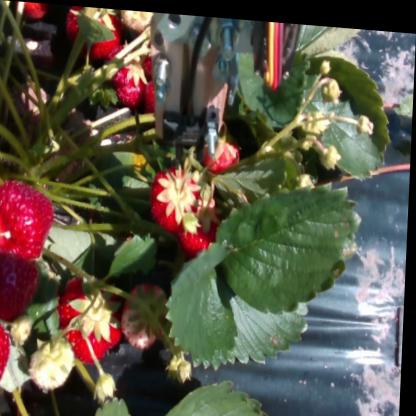ripe: (55, 281, 127, 368), (0, 186, 59, 256), (66, 4, 119, 57), (121, 284, 169, 342), (156, 165, 200, 227), (0, 251, 39, 318), (188, 206, 229, 252), (205, 133, 243, 166), (115, 61, 144, 103), (0, 324, 12, 392)
unripe: (33, 334, 76, 385)
